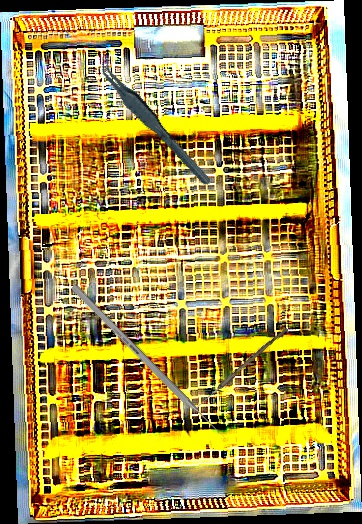Pusher: (70, 283, 231, 445)
Surgical Spoon: (194, 325, 289, 411)
Tissue Forceps: (93, 45, 214, 199)
